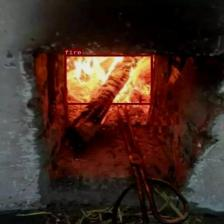fire: (64, 55, 153, 104)
